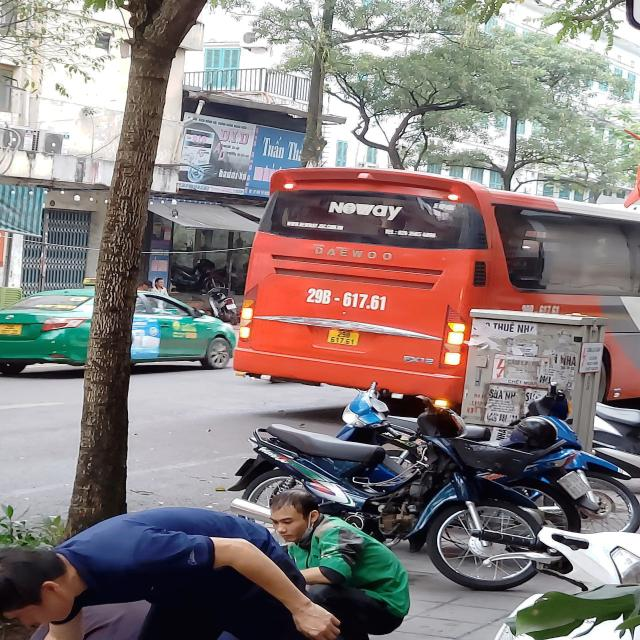license_plate: (328, 330, 361, 348)
